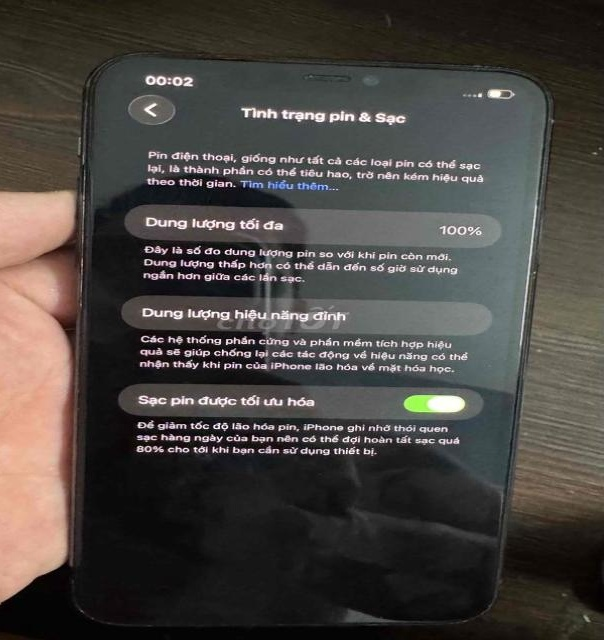scratch: (64, 133, 95, 309), (443, 605, 503, 627), (465, 60, 525, 76)
